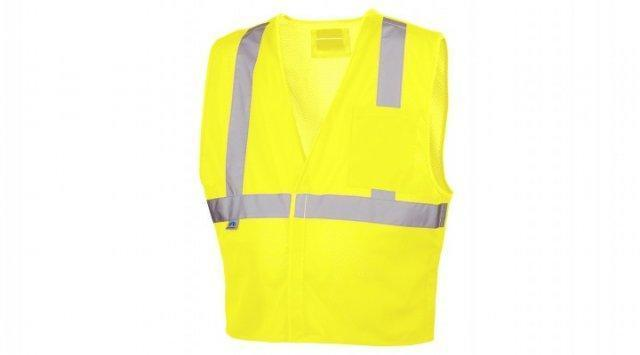vest: (200, 8, 454, 347)
